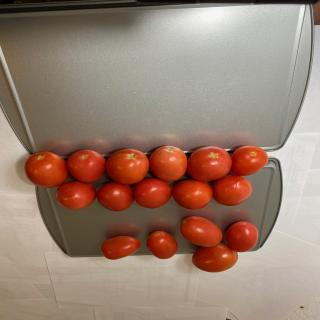Chilli: (25, 144, 269, 272)
Tomato: (24, 152, 69, 188), (106, 148, 150, 184), (187, 146, 232, 181), (149, 146, 188, 182), (192, 243, 238, 272), (180, 216, 223, 247), (212, 174, 253, 206), (67, 150, 106, 182), (172, 180, 213, 210), (55, 181, 96, 210), (231, 145, 268, 176), (134, 178, 172, 208), (97, 182, 134, 211), (101, 235, 141, 260), (226, 221, 258, 252), (146, 231, 178, 259)
